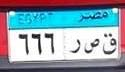6: (43, 32, 57, 55), (18, 32, 30, 57), (31, 32, 42, 57)
qaaf: (102, 31, 118, 56)
raa: (68, 37, 82, 54)
saad: (84, 38, 100, 57)
